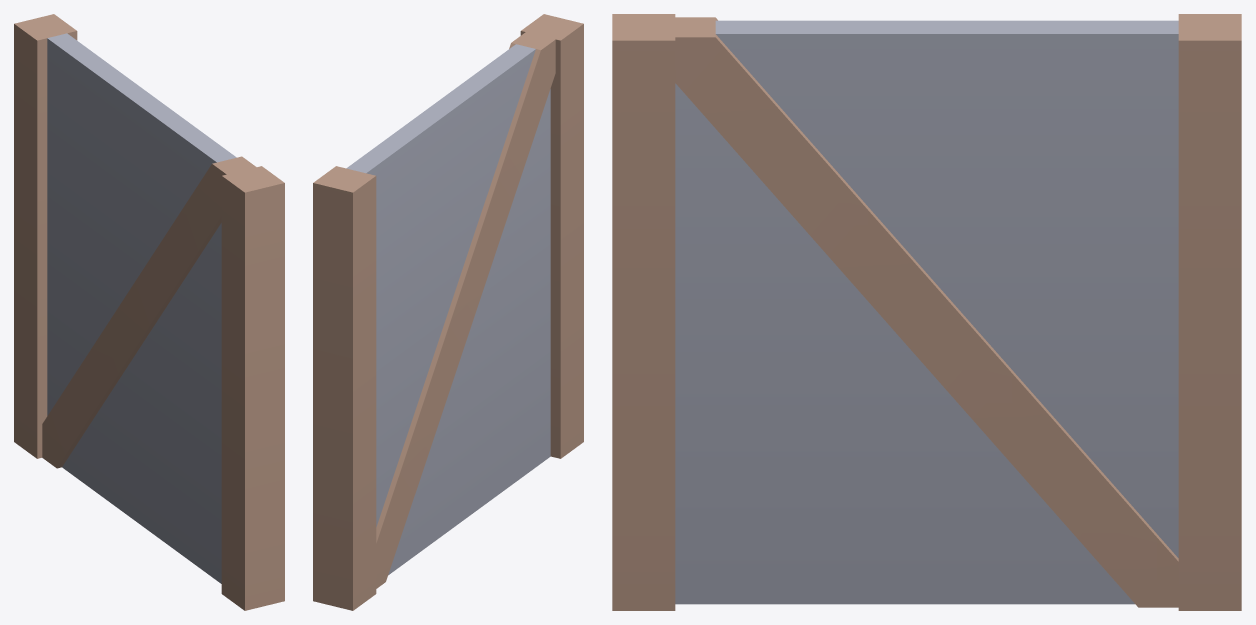
Rendered from wall-detail-diagonal.glb.
The picture shows the model from 3 angles, left to right: view 1: azimuth 30°, elevation 25°; view 2: azimuth 150°, elevation 25°; view 3: azimuth 270°, elevation 25°; orthographic projection. The views are drawn at different scales.
Parts seen in each view (by area): view 1: wall-detail-diagonal; view 2: wall-detail-diagonal; view 3: wall-detail-diagonal.
Boxes of the visible parts, x1,y1,x2,y2 form: wall-detail-diagonal: (14, 14, 284, 610); wall-detail-diagonal: (313, 14, 583, 610); wall-detail-diagonal: (612, 14, 1241, 610).
Bounding box in the file's own units: 0.1 × 1 × 1.
